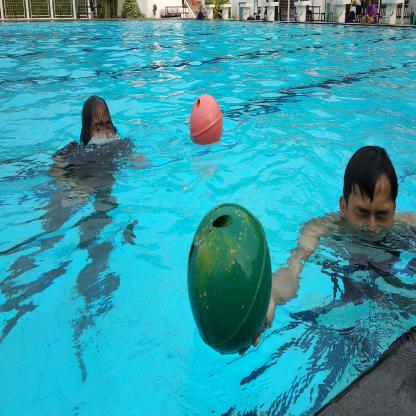green_buoy: (184, 199, 274, 365)
red_buoy: (188, 89, 225, 154)
